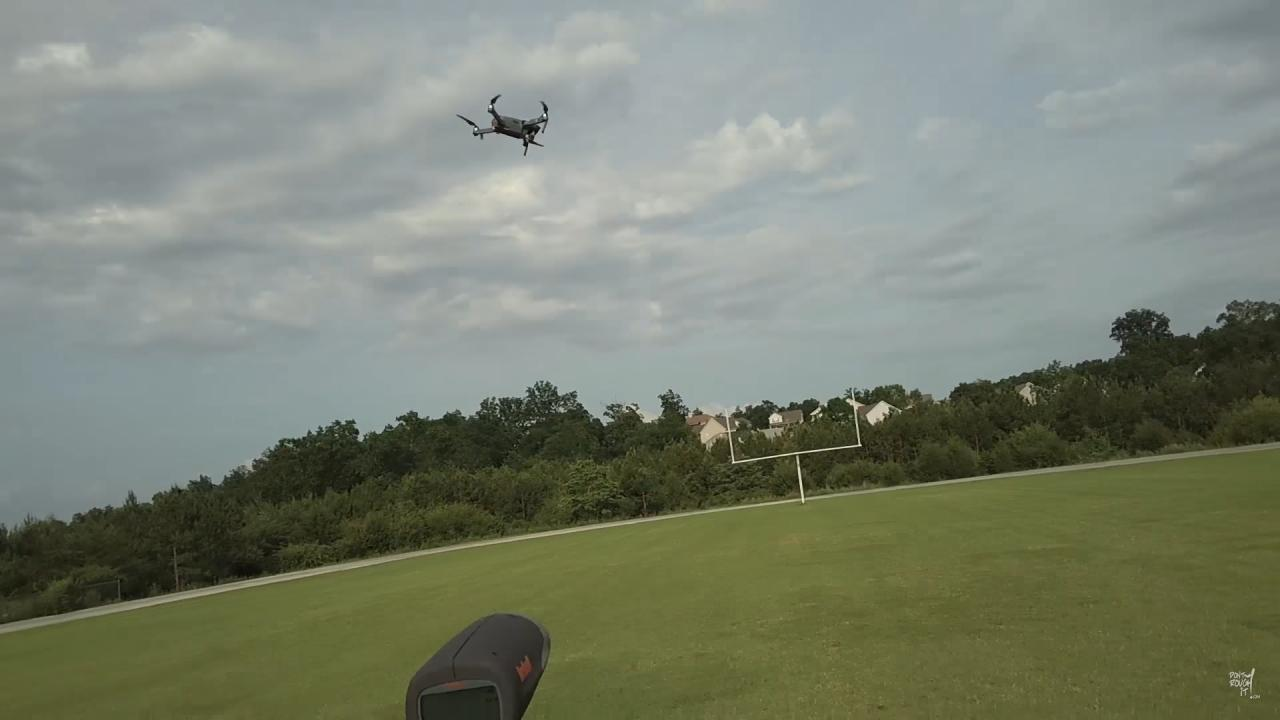Drone: (448, 85, 563, 170)
